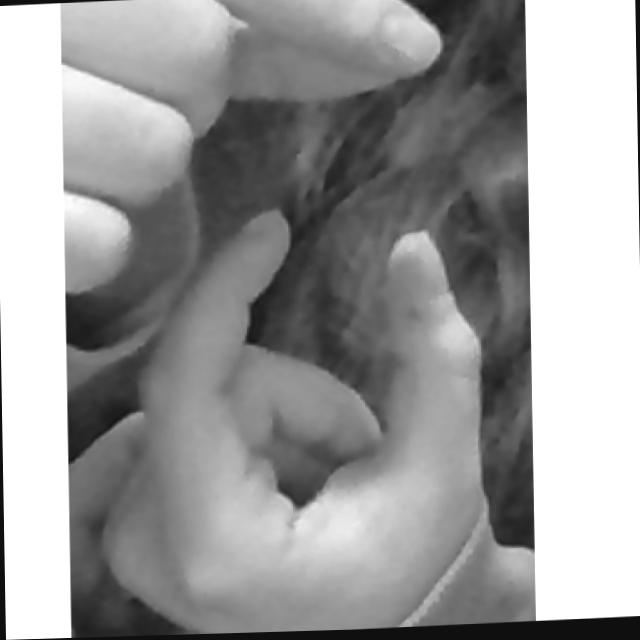U--: (59, 0, 487, 638)
